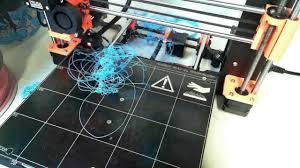fail: (61, 38, 146, 141)
